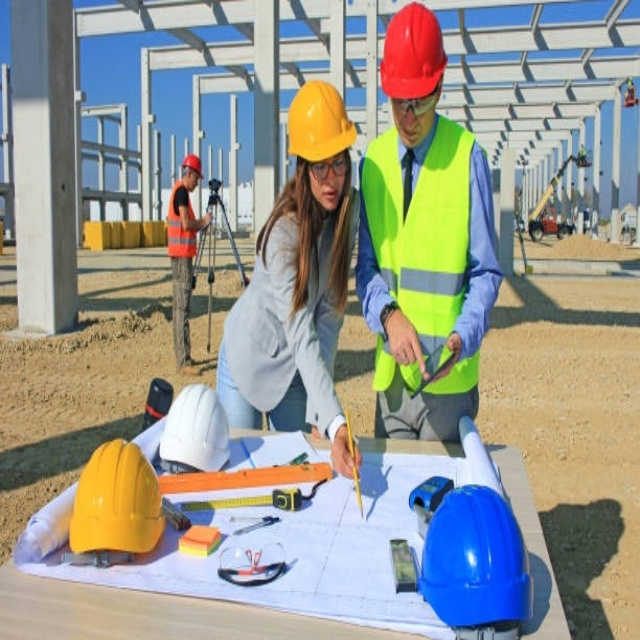Gafas: (390, 79, 440, 114), (304, 151, 349, 179)
Sin_guantes: (386, 310, 429, 373), (330, 425, 364, 480)
Sin_mascara: (398, 121, 421, 146), (319, 181, 337, 210)
